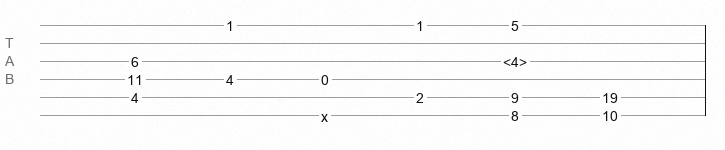0: (321, 72, 329, 82)
1: (226, 18, 234, 28), (416, 18, 424, 28)
10: (602, 108, 618, 118)
11: (127, 72, 143, 82)
19: (602, 90, 618, 100)
2: (416, 90, 424, 100)
4: (131, 90, 139, 100), (226, 72, 234, 82)
5: (511, 18, 519, 28)
6: (131, 54, 139, 64)
8: (511, 108, 519, 118)
9: (511, 90, 519, 100)
harmonic: (503, 54, 527, 64)
x: (321, 109, 328, 117)
